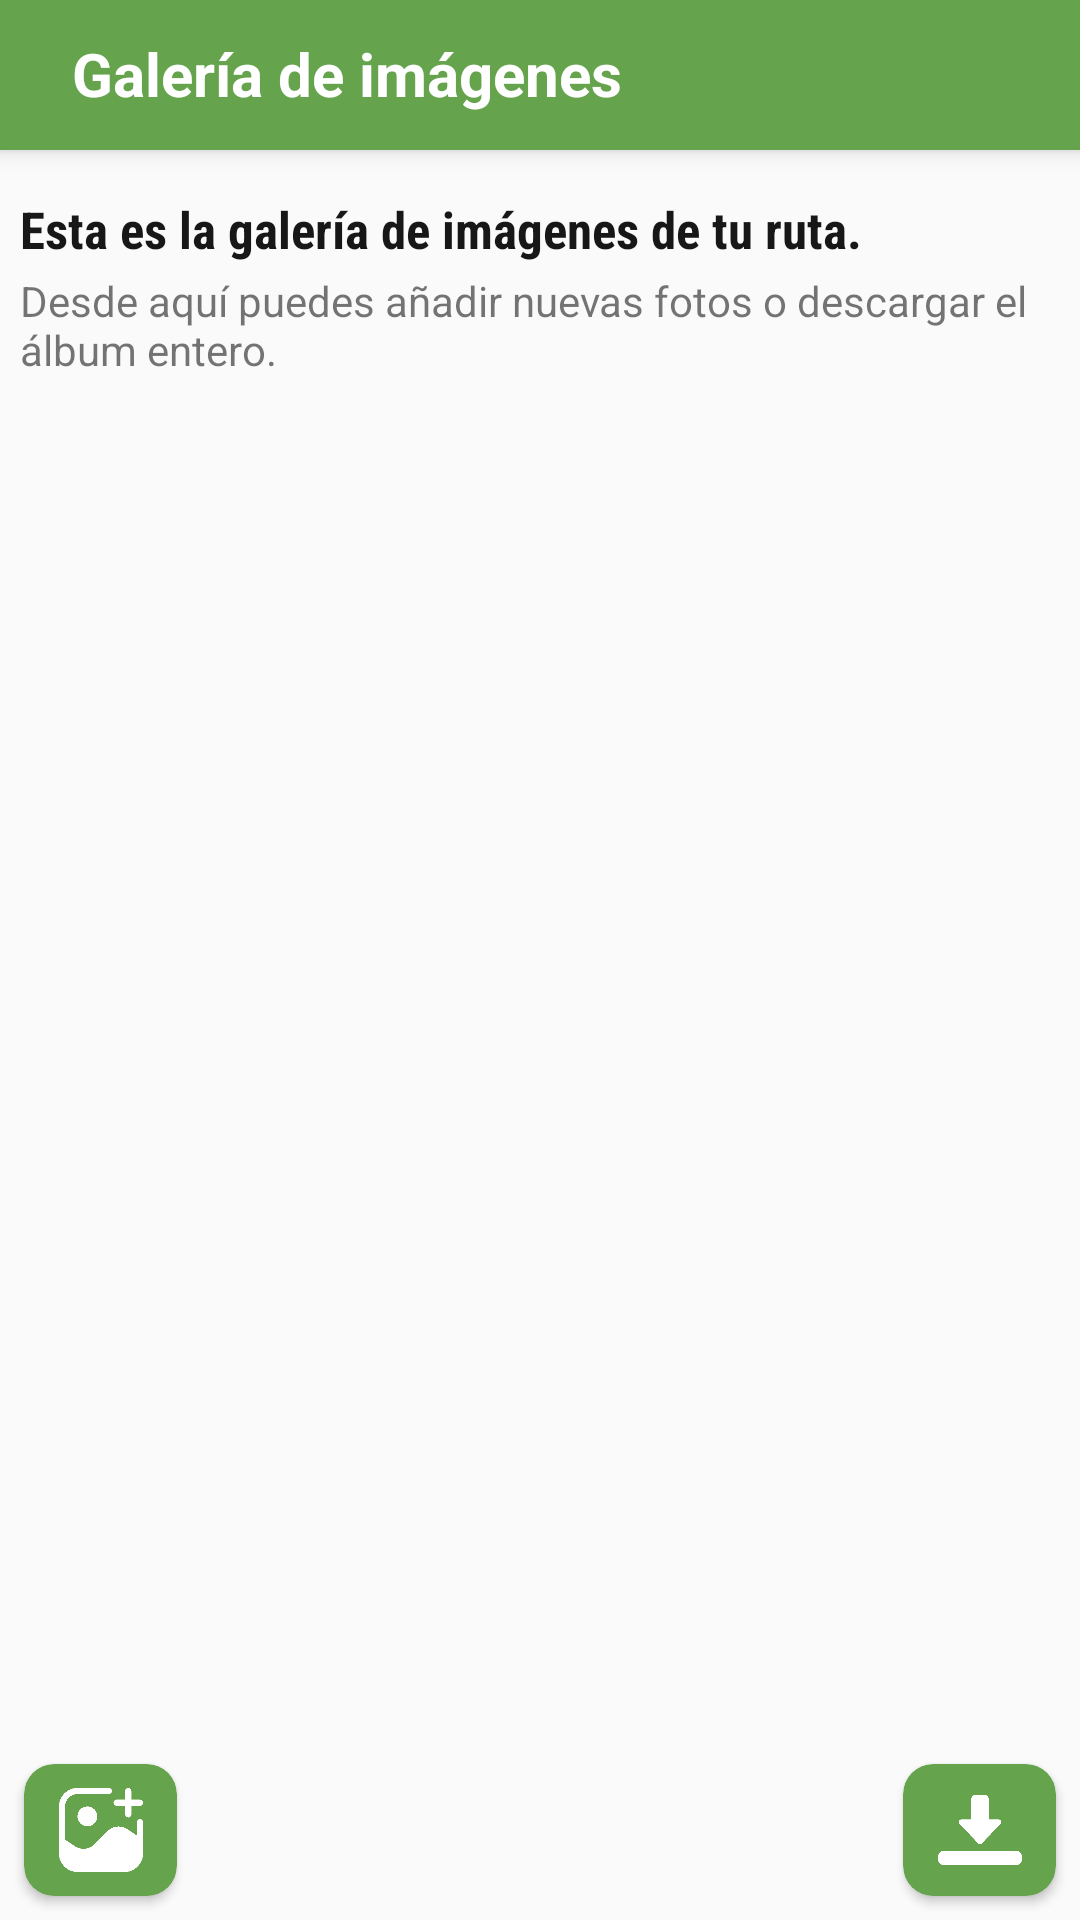

Icon bounding boxes for this 1080x1920 phone screenshot, format (x1, y1, x2, y2):
addimagen: (24, 1764, 177, 1896)
descarga: (903, 1764, 1056, 1896)
